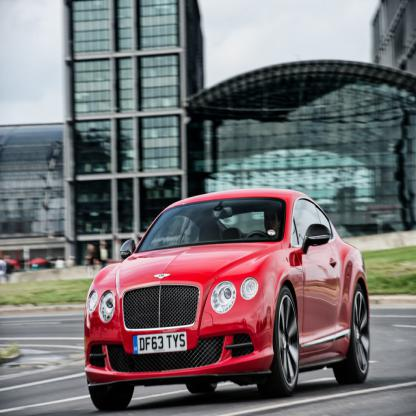Car: (83, 189, 370, 411)
